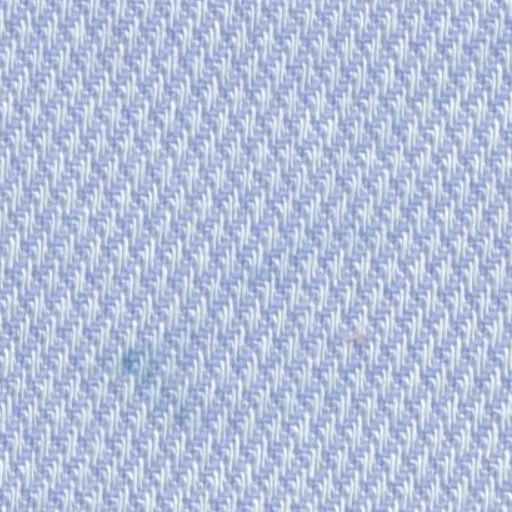WuZi: (76, 282, 236, 438), (314, 306, 389, 366)
